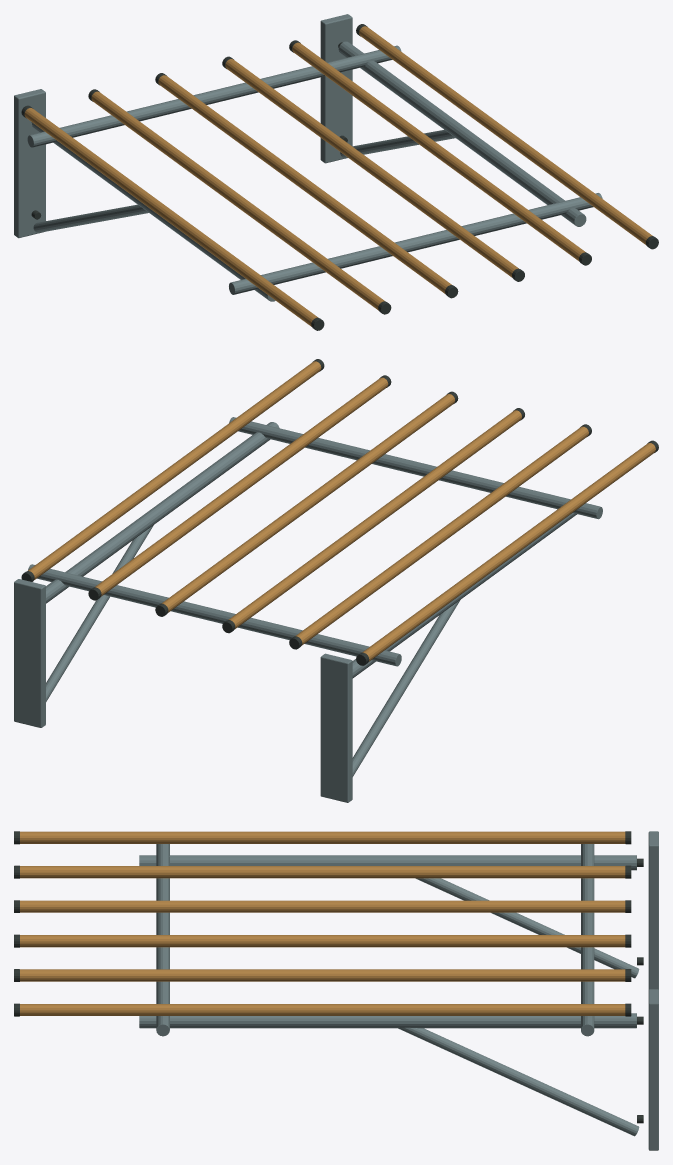
The picture shows the model from 3 angles, top to bottom: view 1: azimuth 30°, elevation 25°; view 2: azimuth 150°, elevation 25°; view 3: azimuth 270°, elevation 25°; orthographic projection. The views are drawn at different scales.
Parts seen in each view (by area): view 1: DRYING_Pole_01, DRYING_Pole_03, DRYING_Pole_04, DRYING_Pole_05, DRYING_Pole_00, DRYING_Pole_02, SUPPORT_Arm.001, SUPPORT_Crossbar, SUPPORT_Crossbar.001, WALL_MountPlate, WALL_MountPlate.001, SUPPORT_Brace (+2 smaller); view 2: WALL_MountPlate, WALL_MountPlate.001, DRYING_Pole_04, DRYING_Pole_02, DRYING_Pole_05, DRYING_Pole_01, DRYING_Pole_03, DRYING_Pole_00, SUPPORT_Crossbar.001, SUPPORT_Crossbar, SUPPORT_Arm.001, SUPPORT_Brace (+2 smaller); view 3: DRYING_Pole_04, DRYING_Pole_00, DRYING_Pole_01, DRYING_Pole_02, DRYING_Pole_03, DRYING_Pole_05, SUPPORT_Arm.001, SUPPORT_Arm, SUPPORT_Brace.001, SUPPORT_Crossbar.001, SUPPORT_Crossbar, SUPPORT_Brace (+2 smaller).
Part boxes in pixels (<box>): DRYING_Pole_01: <box>91,91,384,310</box>; DRYING_Pole_03: <box>225,59,518,277</box>; DRYING_Pole_04: <box>292,42,585,261</box>; DRYING_Pole_05: <box>359,26,652,245</box>; DRYING_Pole_00: <box>24,108,317,326</box>; DRYING_Pole_02: <box>158,75,451,293</box>; SUPPORT_Arm.001: <box>338,41,586,226</box>; SUPPORT_Crossbar: <box>27,45,401,147</box>; SUPPORT_Crossbar.001: <box>229,193,602,294</box>; WALL_MountPlate: <box>14,89,45,238</box>; WALL_MountPlate.001: <box>320,14,352,163</box>; SUPPORT_Brace: <box>33,204,148,232</box>; WALL_MountPlate: <box>320,653,352,802</box>; WALL_MountPlate.001: <box>14,579,45,727</box>; DRYING_Pole_04: <box>95,377,388,596</box>; DRYING_Pole_02: <box>228,410,521,628</box>; DRYING_Pole_05: <box>28,361,321,579</box>; DRYING_Pole_01: <box>295,426,588,645</box>; DRYING_Pole_03: <box>161,394,454,612</box>; DRYING_Pole_00: <box>362,443,655,661</box>; SUPPORT_Crossbar.001: <box>229,417,602,519</box>; SUPPORT_Crossbar: <box>28,564,401,666</box>; SUPPORT_Arm.001: <box>46,422,279,603</box>; SUPPORT_Brace: <box>352,600,460,776</box>; DRYING_Pole_04: <box>20,969,625,981</box>; DRYING_Pole_00: <box>20,831,625,843</box>; DRYING_Pole_01: <box>20,866,625,878</box>; DRYING_Pole_02: <box>20,900,625,912</box>; DRYING_Pole_03: <box>20,935,625,947</box>; DRYING_Pole_05: <box>20,1004,625,1015</box>; SUPPORT_Arm.001: <box>139,1013,636,1028</box>; SUPPORT_Arm: <box>139,855,636,870</box>; SUPPORT_Brace.001: <box>398,1027,639,1136</box>; SUPPORT_Crossbar.001: <box>156,844,169,1036</box>; SUPPORT_Crossbar: <box>581,844,594,1036</box>; SUPPORT_Brace: <box>415,878,639,978</box>.
Bounding box in the file's own units: 1.32 × 0.48 × 1.9.
